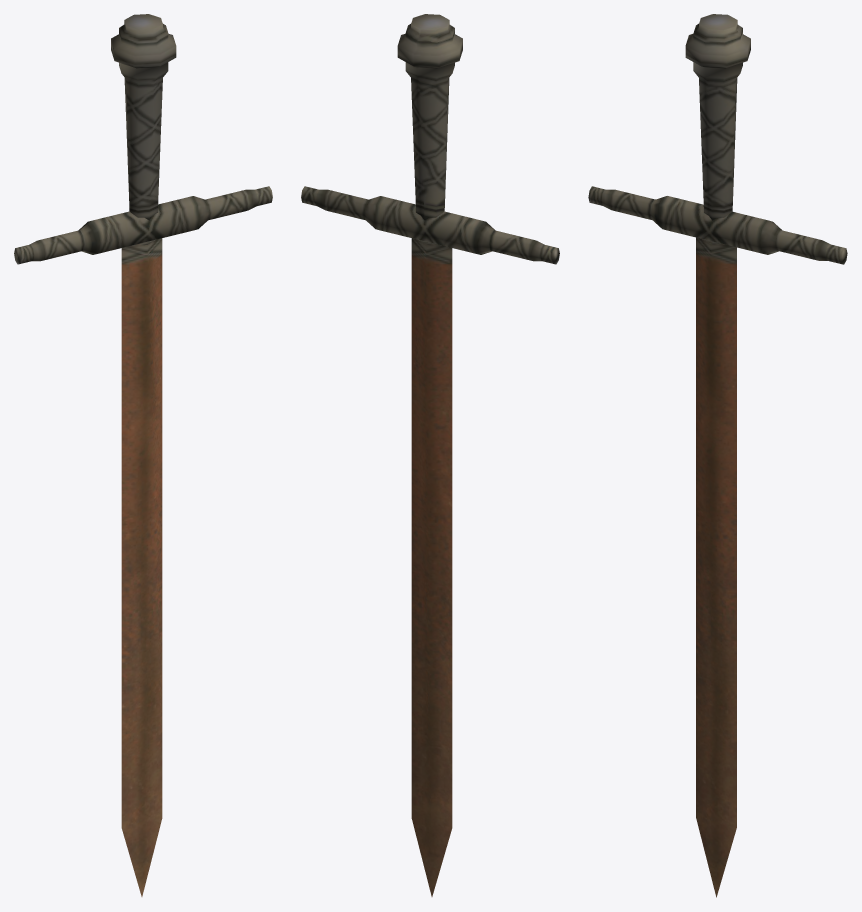
The model's file is Sword0.2.fbx.
The picture shows the model from 3 angles, left to right: view 1: azimuth 30°, elevation 25°; view 2: azimuth 150°, elevation 25°; view 3: azimuth 330°, elevation 25°; orthographic projection.
Parts seen in each view (by area): view 1: Sword; view 2: Sword; view 3: Sword.
Boxes of the visible parts, left/top/right/bottom form: Sword: left=14, top=14, right=272, bottom=896; Sword: left=301, top=14, right=559, bottom=896; Sword: left=588, top=14, right=847, bottom=897.
Size of the model in its own units: 38.83 by 129 by 9.02.
Materials: 1 (1 with a texture image).
